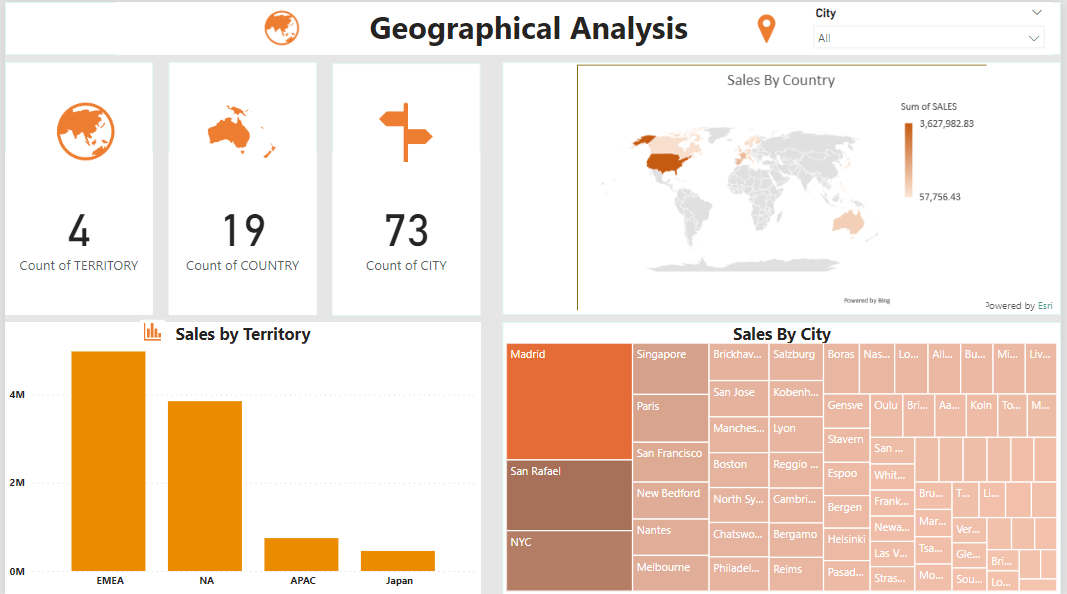

What the dashboard file says about the page in this screenshot:
{"tool":"powerbi","page":{"name":"Geographical Analysis","canvas":[1280,720],"ordinal":3},"visuals":[{"type":"shape","box":[602.6,73.1,676.9,306.4],"z":0},{"type":"shape","box":[0,388.5,576.9,332.1],"z":1000},{"type":"shape","box":[0,73.1,179.5,306.4],"z":2000},{"type":"shape","box":[602.6,388.5,676.9,332.1],"z":3000},{"type":"shape","box":[0,0,1279.5,64.1],"z":4000},{"type":"textbox","box":[133.3,0,1002.6,64.1],"z":5000},{"type":"shape","box":[198.7,73.1,179.5,306.4],"z":6000},{"type":"shape","box":[397.4,74.4,179.5,306.4],"z":7000},{"type":"card","fields":{"Values":["Count(sales_data_sample.CITY)"]},"box":[397.4,182.1,179.5,197.4],"z":8000},{"type":"card","fields":{"Values":["Count(sales_data_sample.COUNTRY)"]},"box":[198.7,182.1,179.5,197.4],"z":9000},{"type":"card","fields":{"Values":["Count(sales_data_sample.TERRITORY)"]},"box":[0,182.1,179.5,197.4],"z":10000},{"type":"columnChart","title":"Sales by Territory","fields":{"Category":["sales_data_sample.TERRITORY"],"Y":["Sum(sales_data_sample.SALES)"]},"box":[0,388.5,576.9,332.1],"z":11000},{"type":"image","box":[893.6,0,59,64.1],"z":12000},{"type":"image","box":[48.7,109,98.7,97.4],"z":13000},{"type":"image","box":[305.1,0,62.8,64.1],"z":14000},{"type":"image","box":[238.5,109,98.7,97.4],"z":15000},{"type":"image","box":[438.5,109,96.2,97.4],"z":16000},{"type":"image","box":[157.7,380.8,42.3,39.7],"z":17000},{"type":"esriVisual","title":"Sales By Country","fields":{"Size":["Sum(sales_data_sample.SALES)"],"Color":["Sum(sales_data_sample.SALES)"],"Location":["sales_data_sample.COUNTRY"]},"box":[602.9,74.3,677.1,307.1],"z":18000},{"type":"treemap","title":"Sales By City","fields":{"Values":["Sum(sales_data_sample.SALES)"],"Group":["sales_data_sample.CITY"]},"box":[602.9,388.6,677.1,331.4],"z":19000},{"type":"image","box":[602.5,71.2,677.5,307.5],"z":19001},{"type":"slicer","fields":{"Values":["sales_data_sample.CITY"]},"box":[970,0,300,63.8],"z":19002}]}

Visuals, with their boxes in screenshot pixels (x1, y1, x2, y2), scaled from the page's 1280x720 canvas onto the 1067x594 screenshot:
shape: bbox=[502, 60, 1066, 313]
shape: bbox=[0, 321, 481, 593]
shape: bbox=[0, 60, 150, 313]
shape: bbox=[502, 321, 1066, 593]
shape: bbox=[0, 0, 1066, 53]
textbox: bbox=[111, 0, 947, 53]
shape: bbox=[166, 60, 315, 313]
shape: bbox=[331, 61, 481, 314]
card - Count(sales_data_sample.CITY): bbox=[331, 150, 481, 313]
card - Count(sales_data_sample.COUNTRY): bbox=[166, 150, 315, 313]
card - Count(sales_data_sample.TERRITORY): bbox=[0, 150, 150, 313]
"Sales by Territory" columnChart: bbox=[0, 321, 481, 593]
image: bbox=[745, 0, 794, 53]
image: bbox=[41, 90, 123, 170]
image: bbox=[254, 0, 307, 53]
image: bbox=[199, 90, 281, 170]
image: bbox=[366, 90, 446, 170]
image: bbox=[131, 314, 167, 347]
"Sales By Country" esriVisual: bbox=[503, 61, 1066, 315]
"Sales By City" treemap: bbox=[503, 321, 1066, 593]
image: bbox=[502, 59, 1066, 312]
slicer - sales_data_sample.CITY: bbox=[809, 0, 1059, 53]
